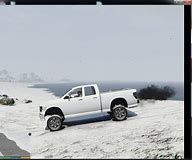smoke: (132, 82, 176, 101)
